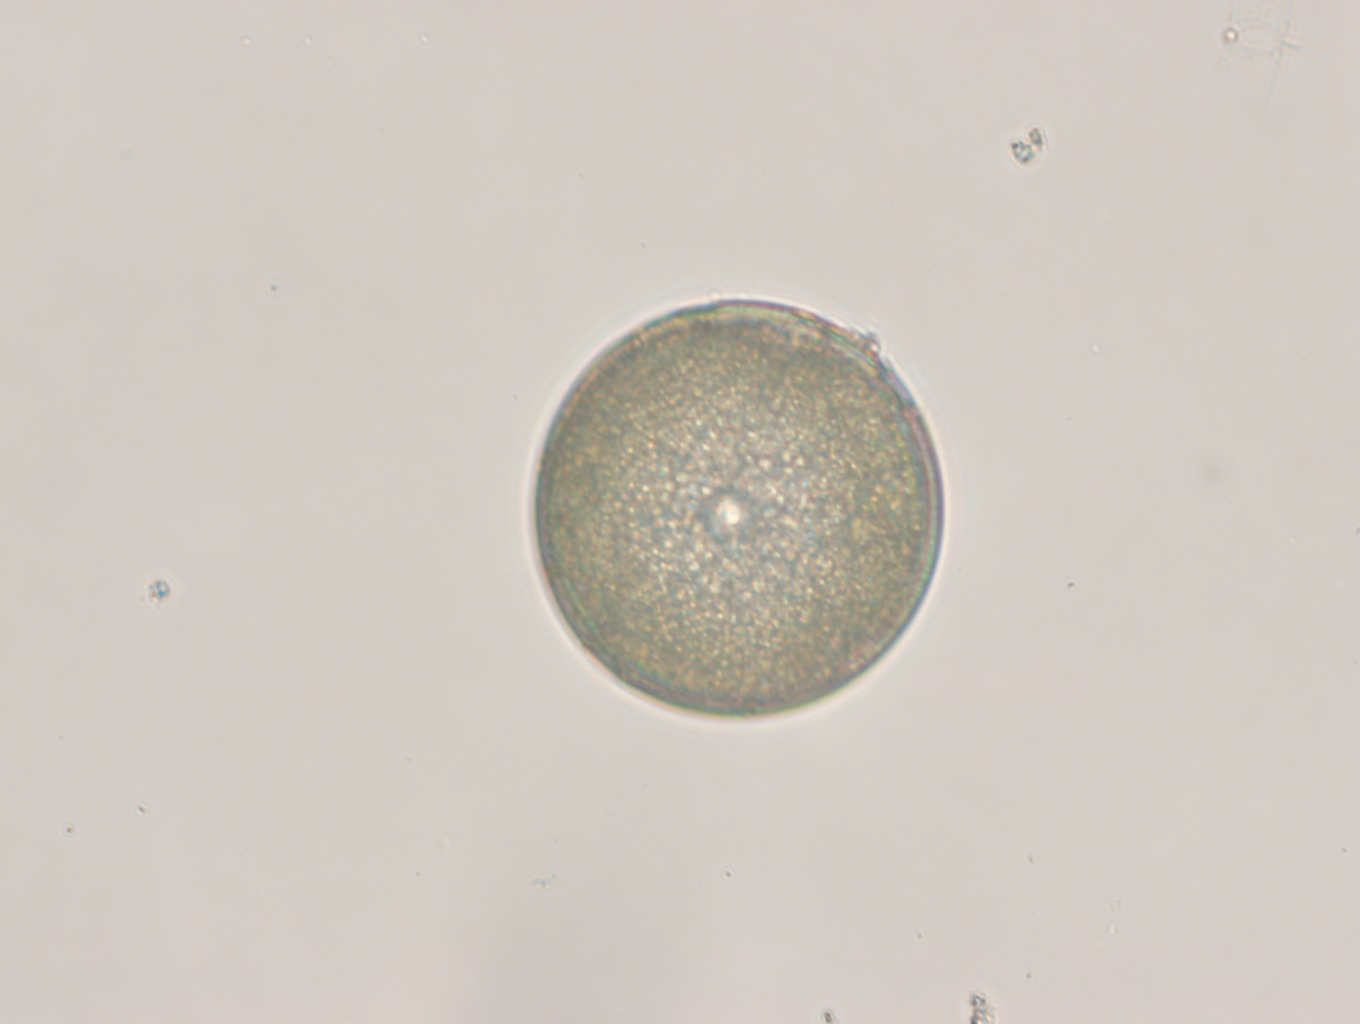coscinodiscus: (527, 294, 946, 725)
